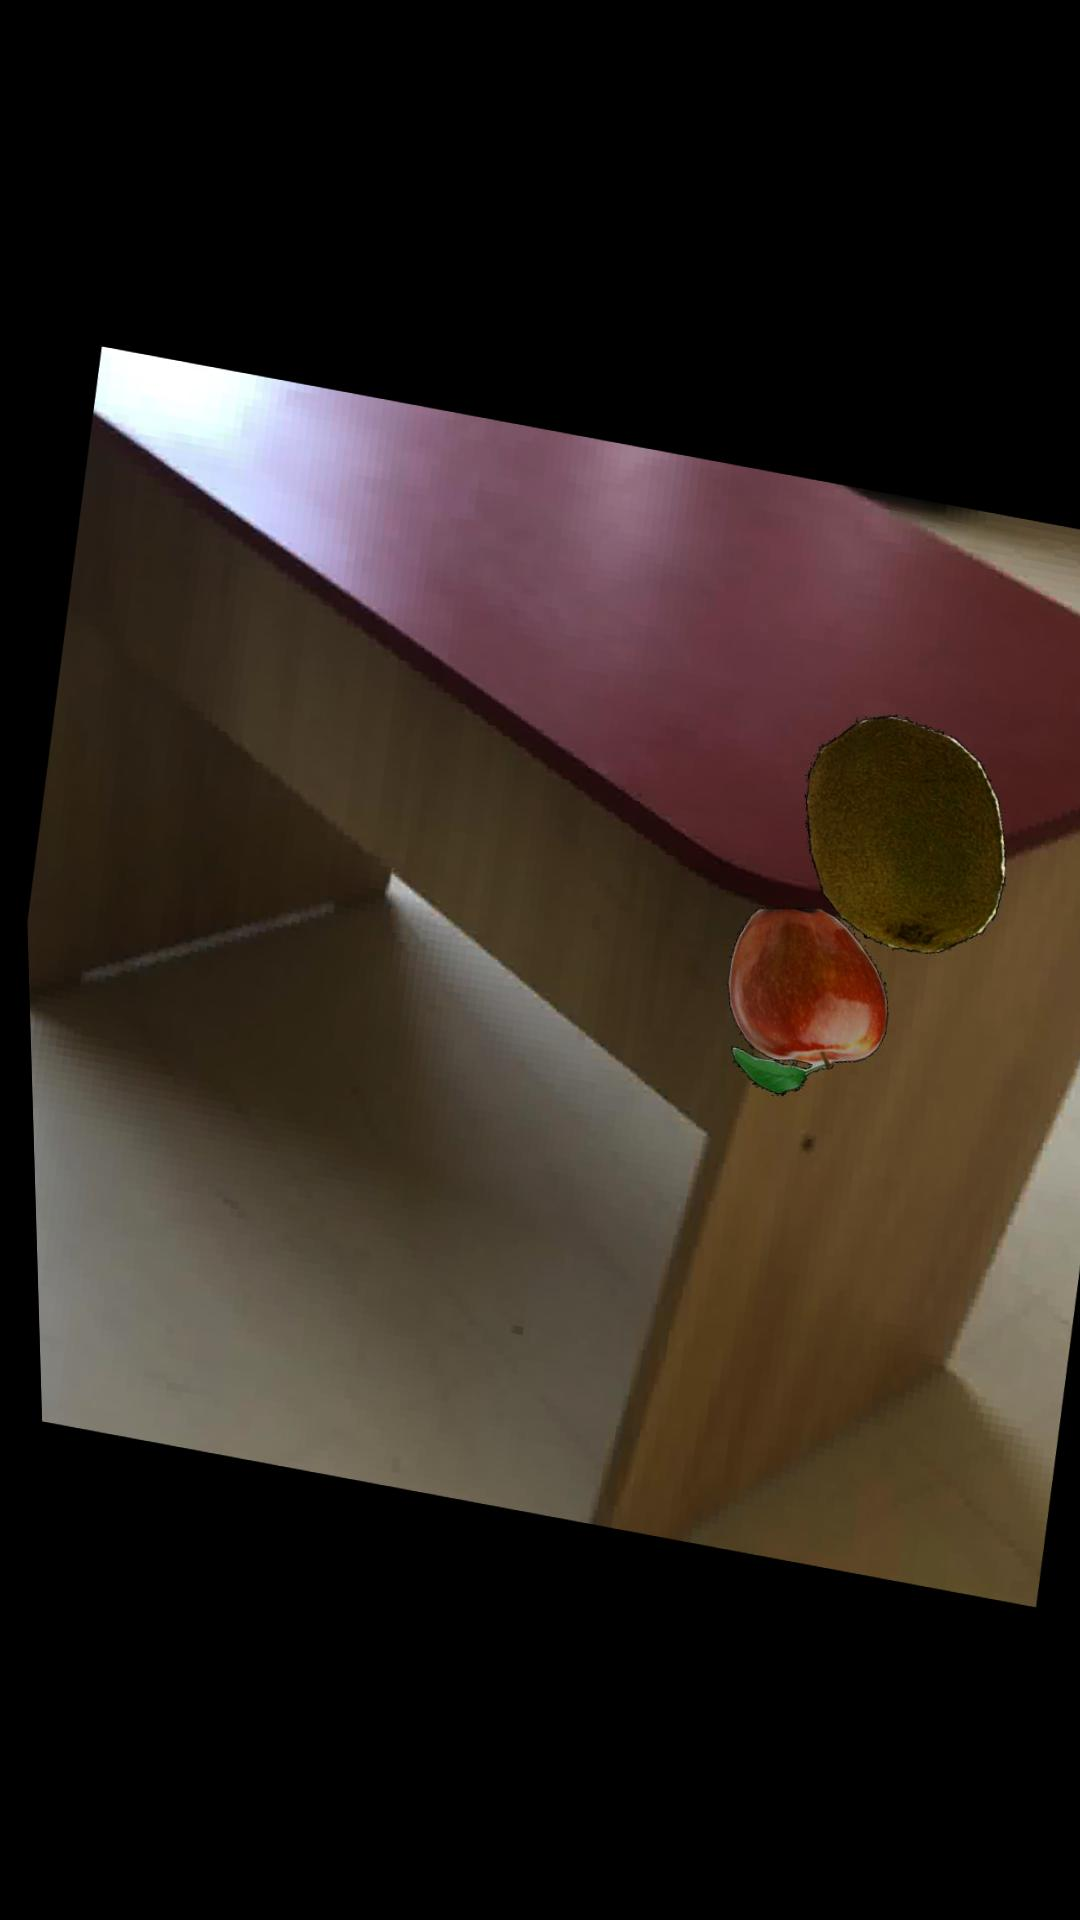apple: (719, 902, 880, 1091)
kiwi: (798, 709, 998, 948)
